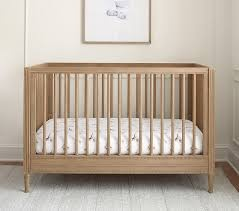crib: (24, 62, 215, 193)
